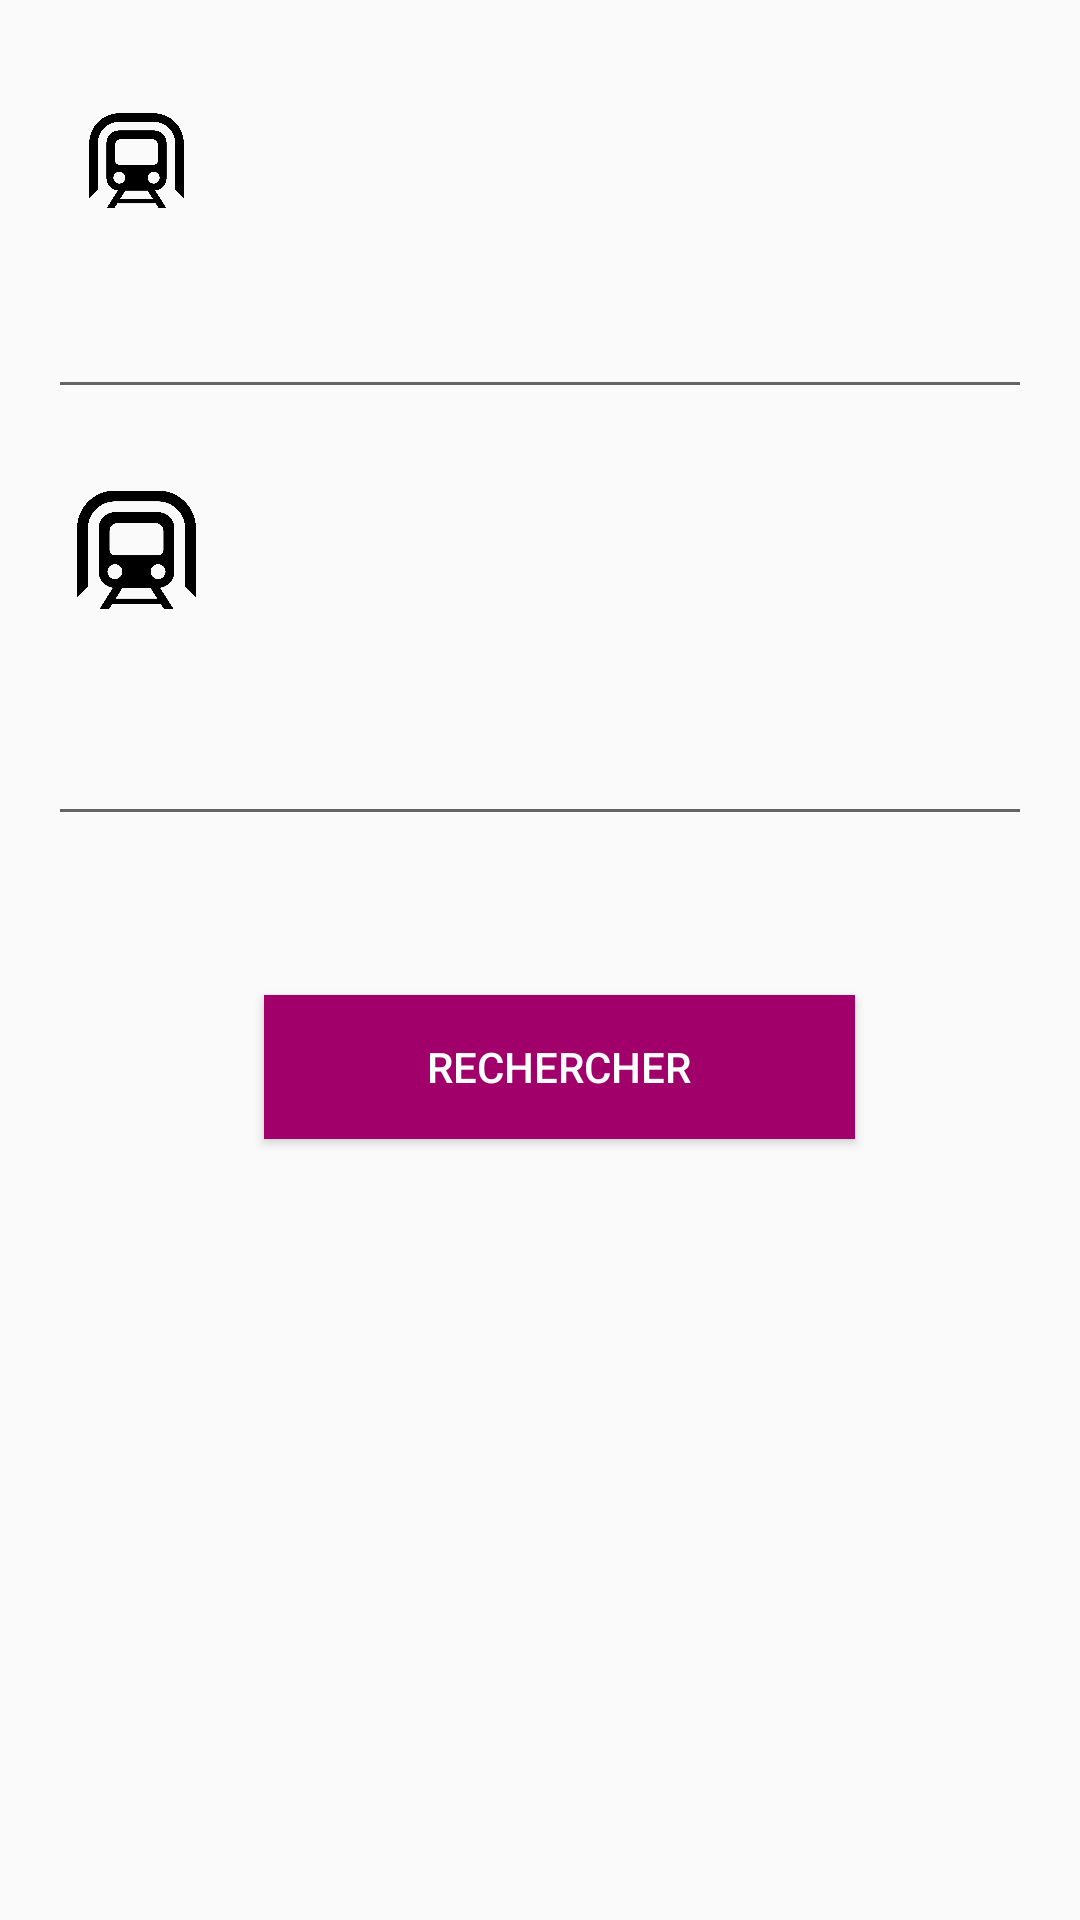

Screen size 1080 x 1920. Icon name, then its box in pixels as {"left": x1, "top": y1, "right": x2, "bottom": y2}:
station: {"left": 89, "top": 113, "right": 184, "bottom": 208}, {"left": 77, "top": 491, "right": 196, "bottom": 609}
